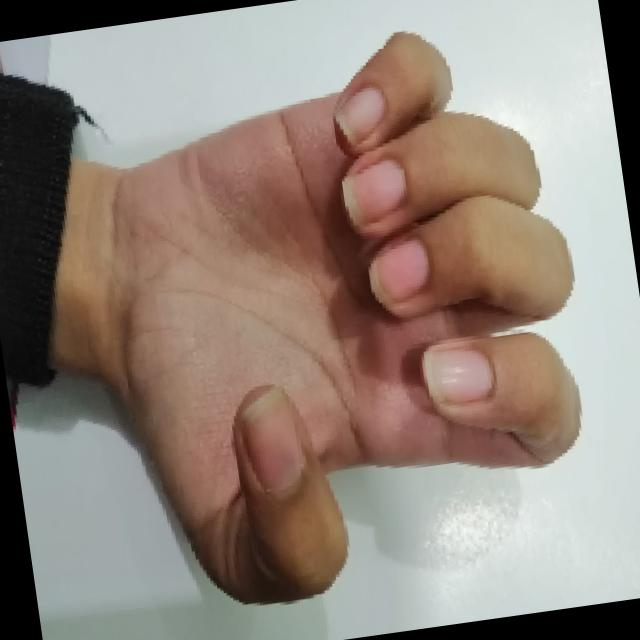Nail: (240, 388, 304, 491), (341, 160, 405, 227), (421, 347, 493, 405), (368, 238, 429, 302), (335, 87, 384, 146)
